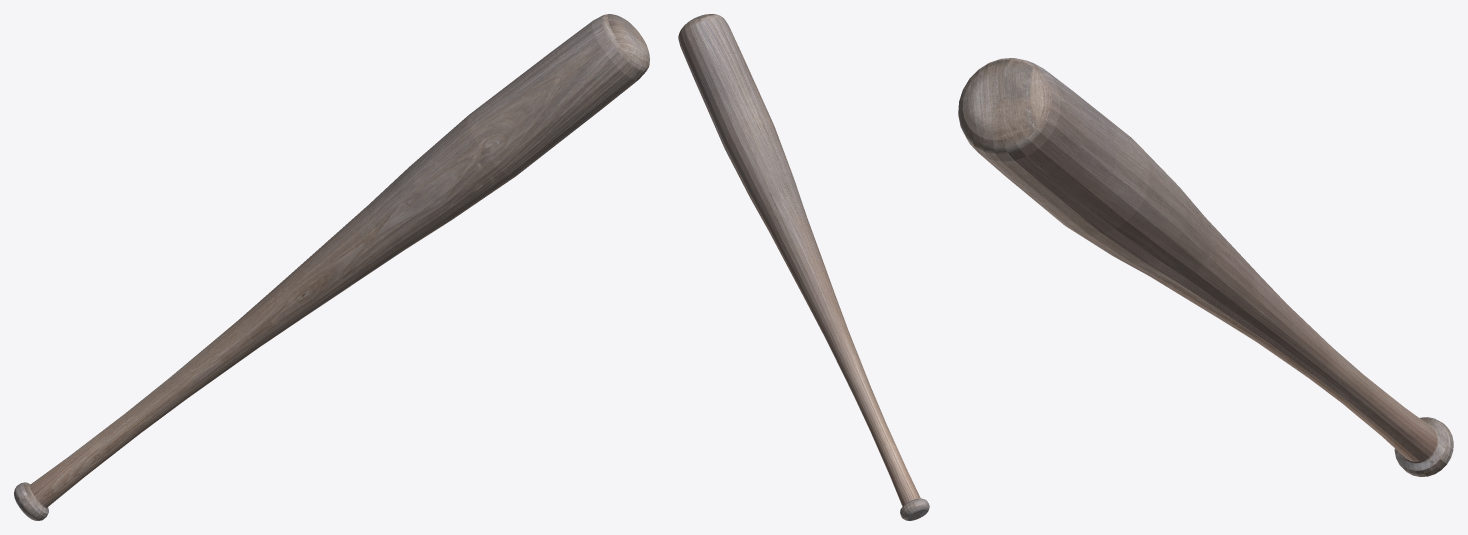
File: Baseball Bat.fbx
3 renders of one model, left to right at view 1: azimuth 30°, elevation 25°; view 2: azimuth 150°, elevation 25°; view 3: azimuth 270°, elevation 25°, orthographic. The views are drawn at different scales.
Visible parts, largest first — view 1: iG_Baseball_Bat.Shape; view 2: iG_Baseball_Bat.Shape; view 3: iG_Baseball_Bat.Shape.
Boxes of the visible parts, <box> form: iG_Baseball_Bat.Shape: <box>14,14,649,520</box>; iG_Baseball_Bat.Shape: <box>678,14,929,520</box>; iG_Baseball_Bat.Shape: <box>958,58,1453,476</box>.
Size of the model in its own units: 56.93 by 55.86 by 35.24.
Materials: 6 (6 with a texture image).
